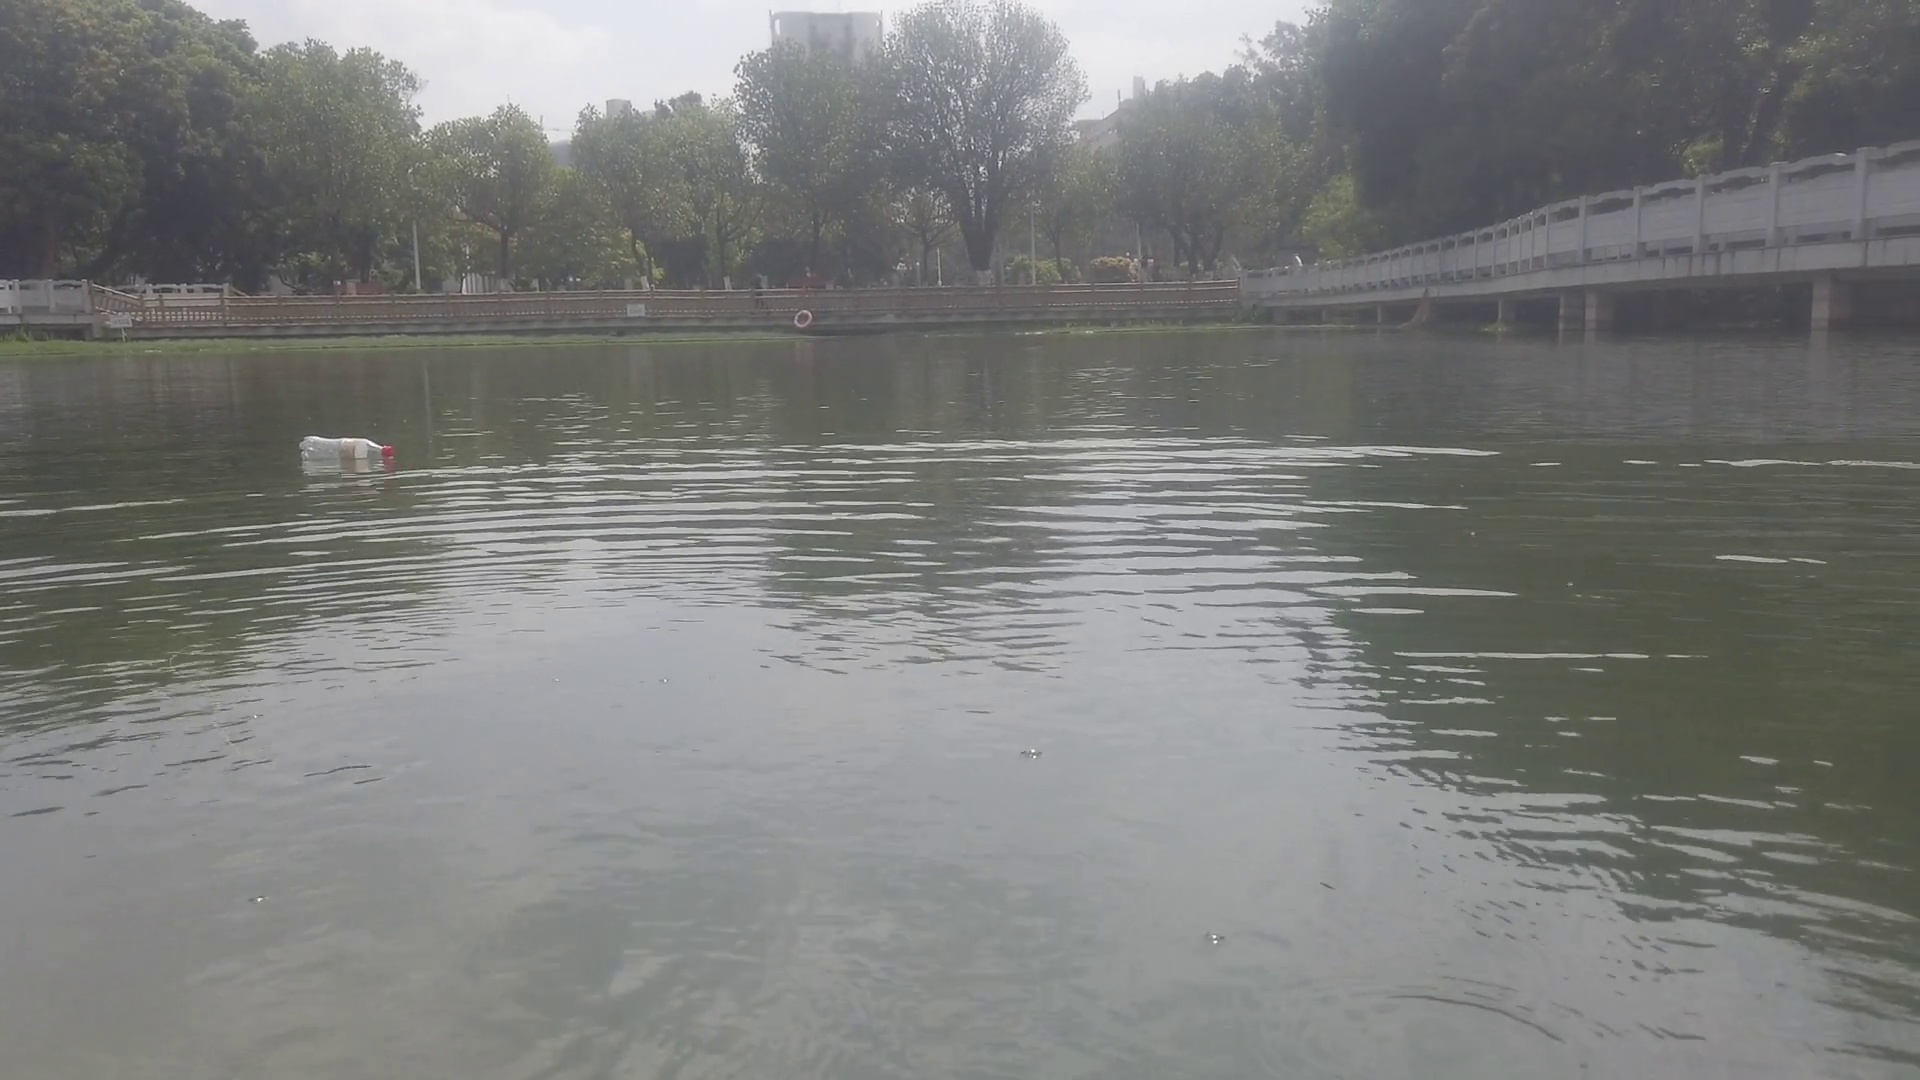bottle: (295, 430, 396, 465)
